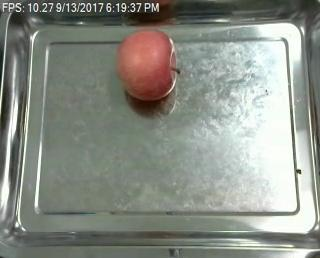apple: (117, 28, 181, 101)
